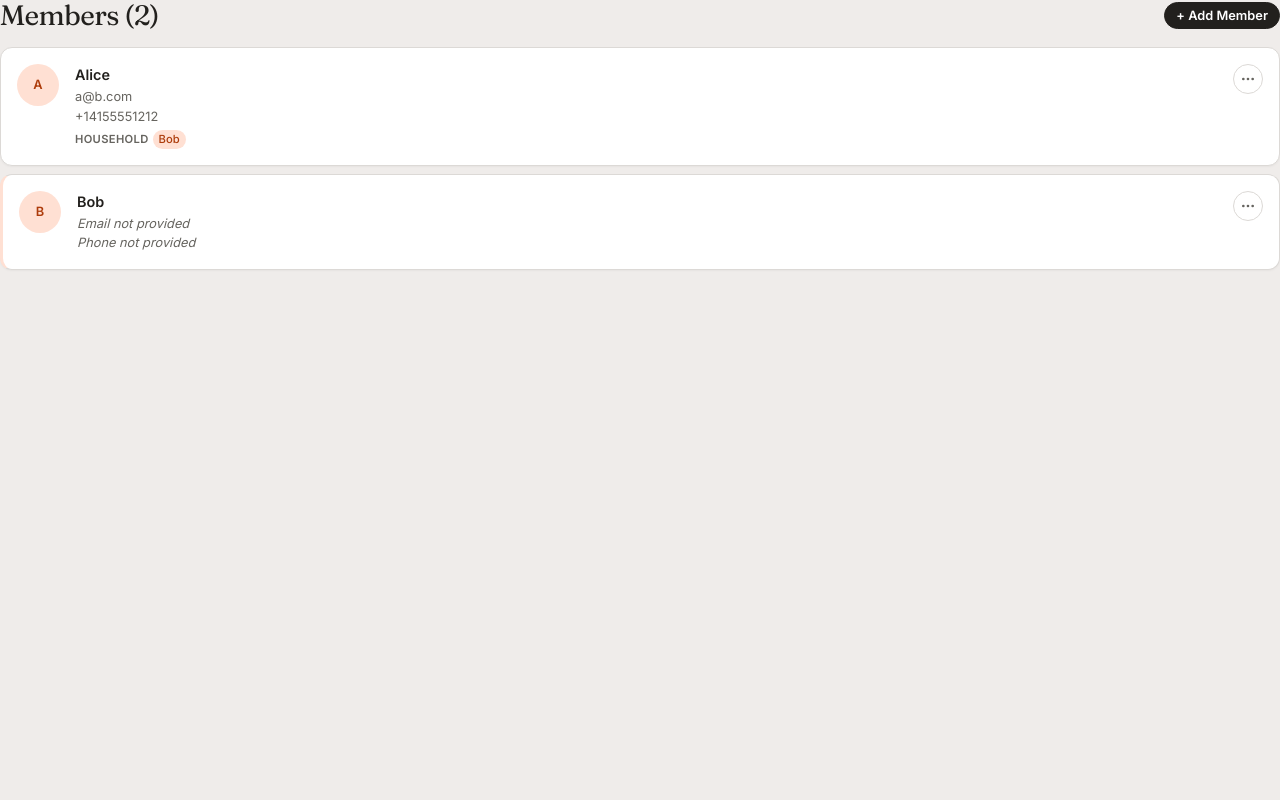
Test case: MembersTab › opens household link dialog on Edit Household click
The image size is (1280, 800).
Click the button named "Actions for": [1248, 79] box 1233,64 -> 1263,94
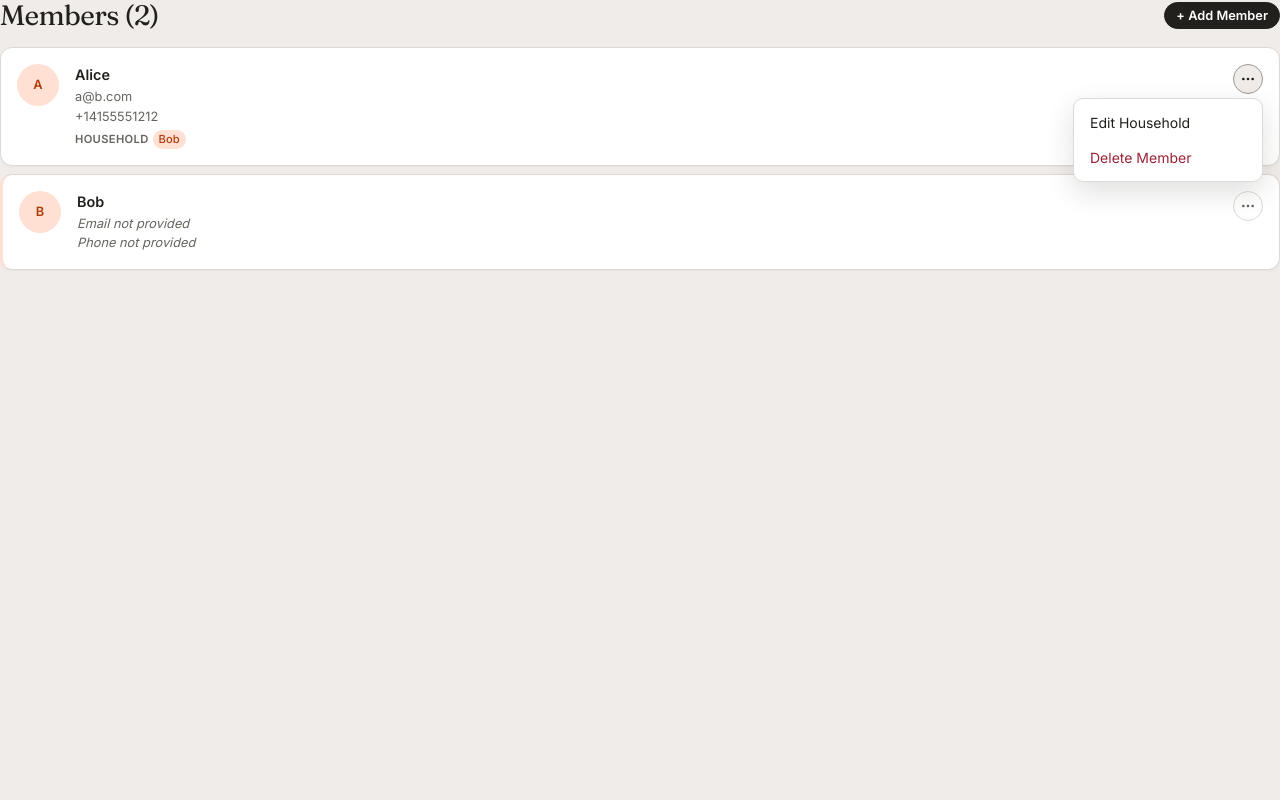
Click the menu item "Edit Household": [1168, 122] box 1080,105 -> 1256,140
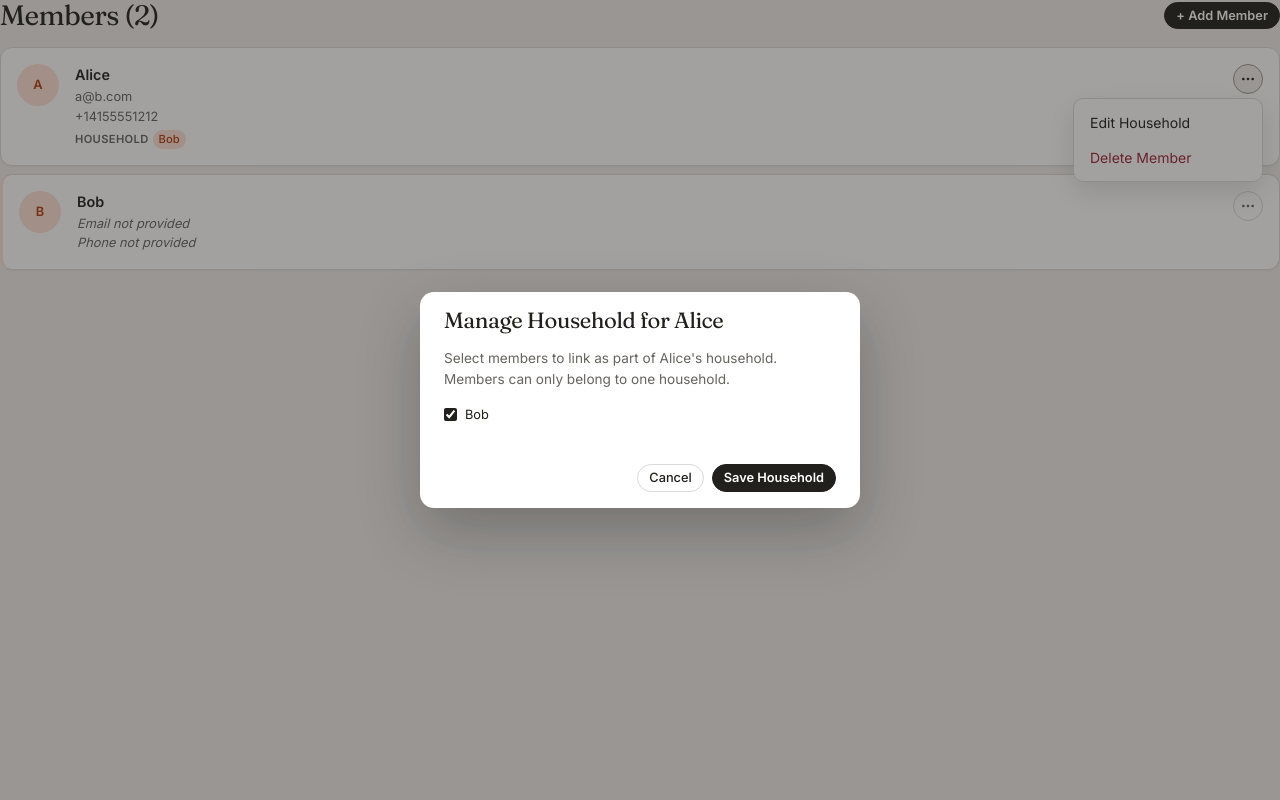
Expected: the text "Manage Household for Alice" is shown, 444,306 -> 723,334
Expected: the button "Save Household" is shown, 712,464 -> 836,492
